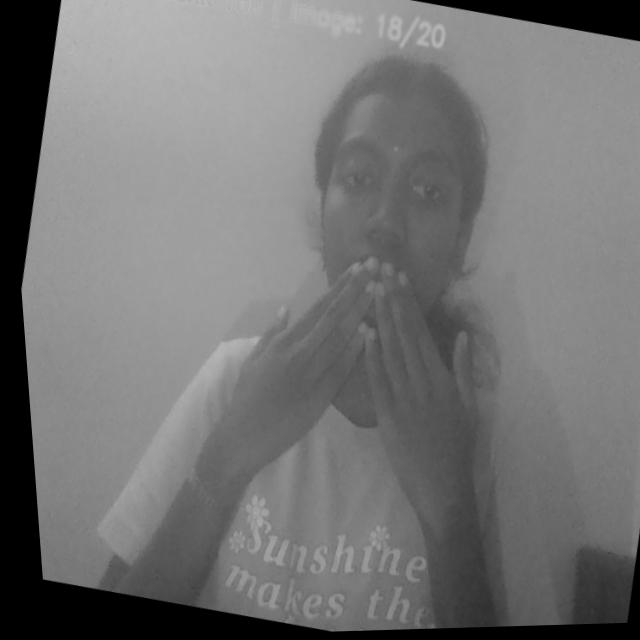Thank You: (153, 217, 535, 571)
